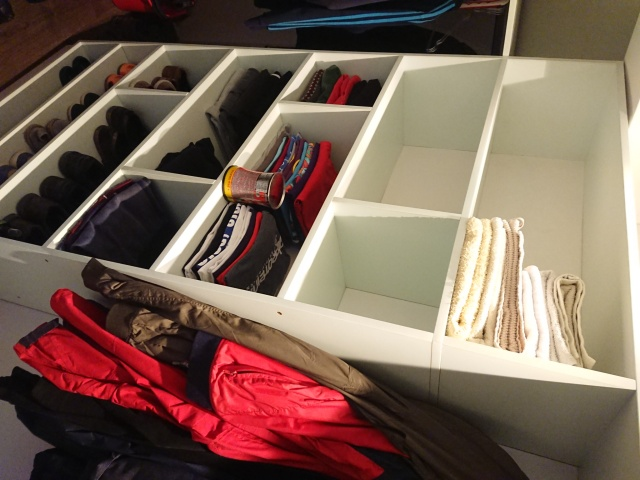Nescafe Classic 225g: (219, 163, 288, 211)
